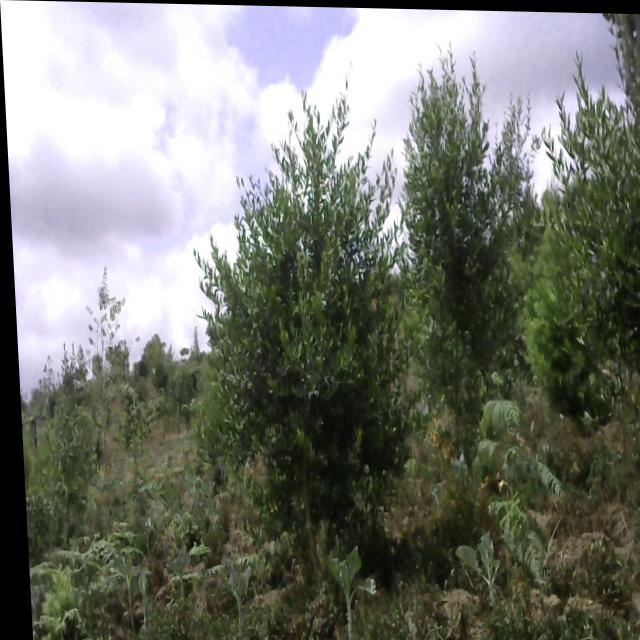Salix alba: (176, 86, 426, 586), (392, 37, 542, 426), (531, 40, 640, 480)
